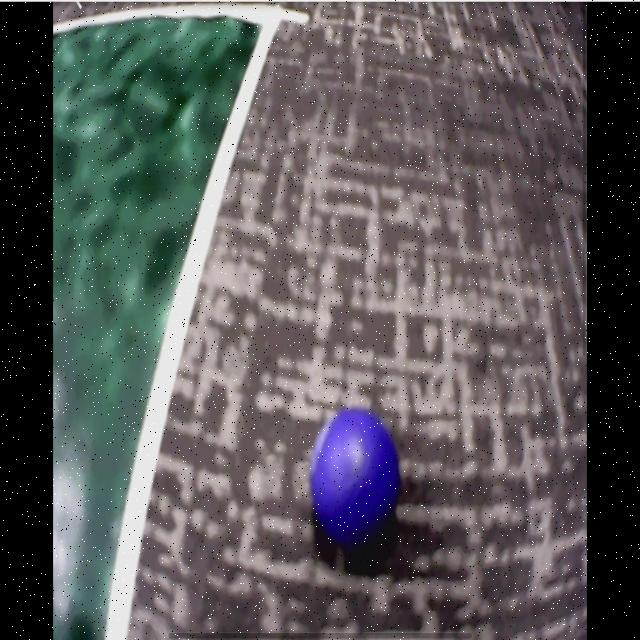ball: (312, 410, 401, 536)
